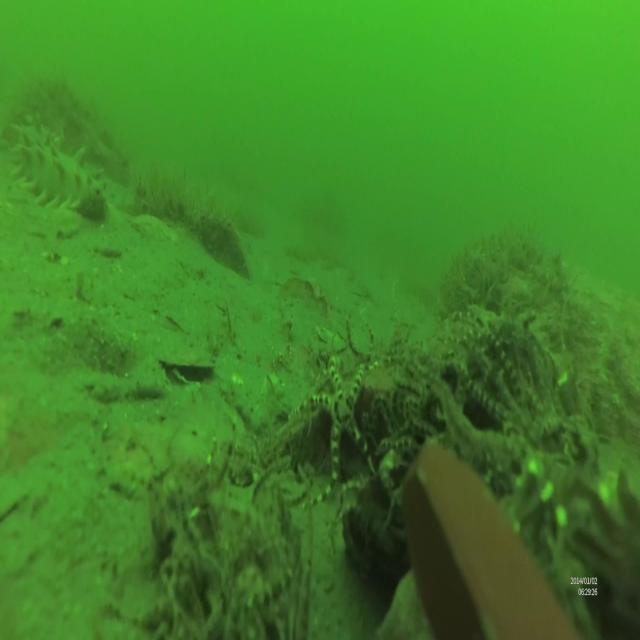holothurian: (12, 112, 110, 215)
